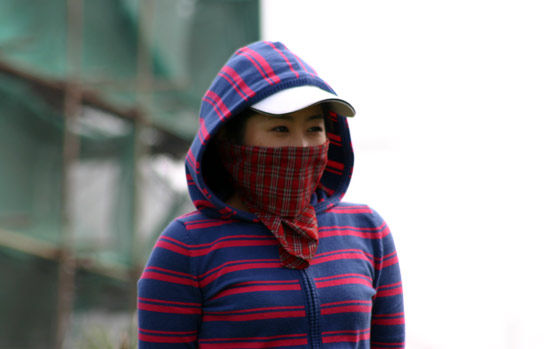face_mask: (250, 96, 331, 201)
